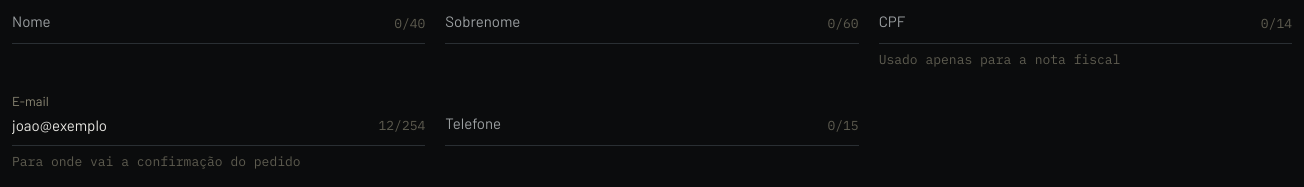
Test: PersonalStep › exibe a mensagem do validador para e-mail inválido
This screenshot has width=1304, height=187.
Click the field labelled "E-mail" at [219, 119], box [12, 92, 425, 146]
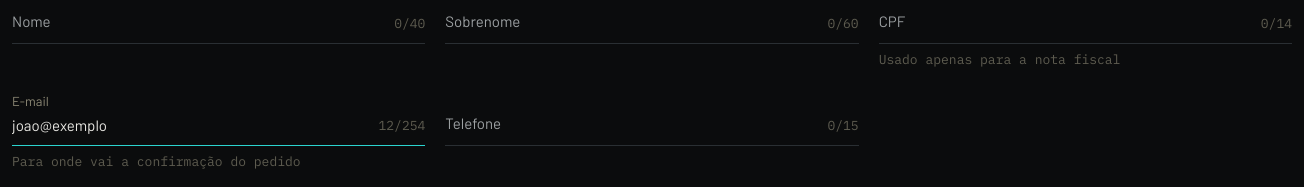
Press Tab
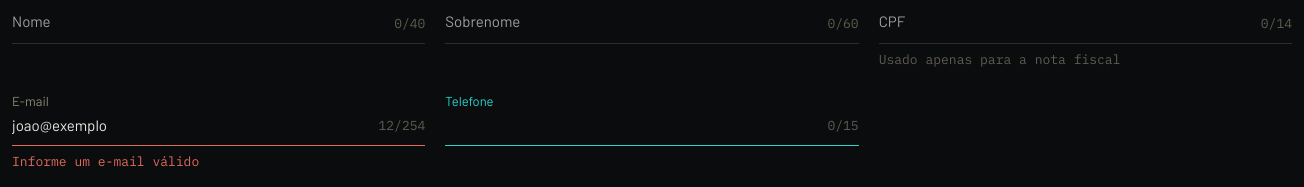
Expected: the text "Informe um e-mail válido" is shown, [12, 153, 199, 170]
